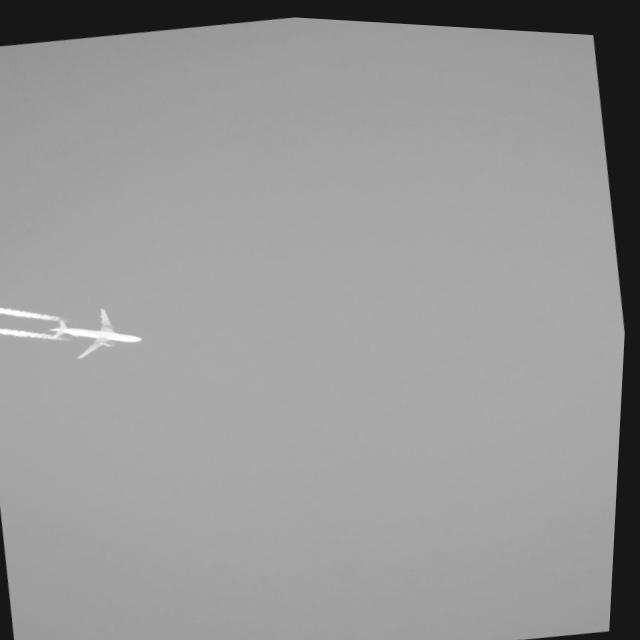aeroplane: (42, 295, 153, 368)
